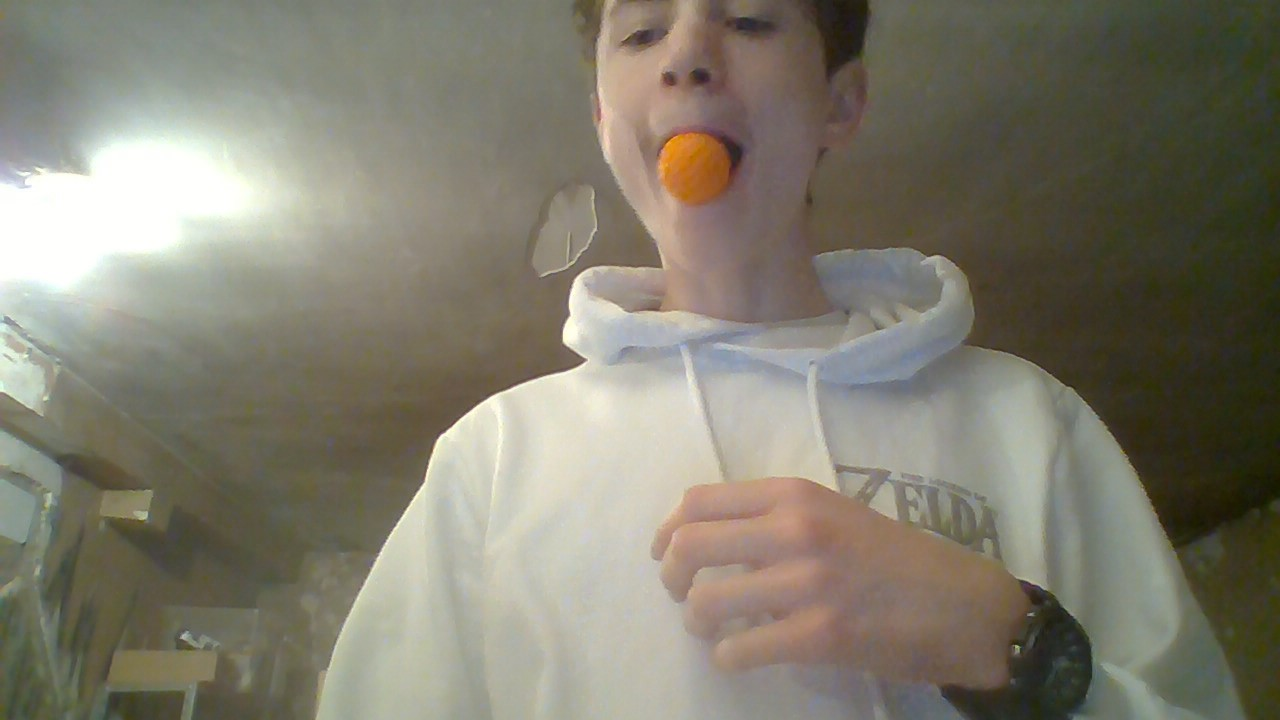ball: (659, 133, 732, 202)
